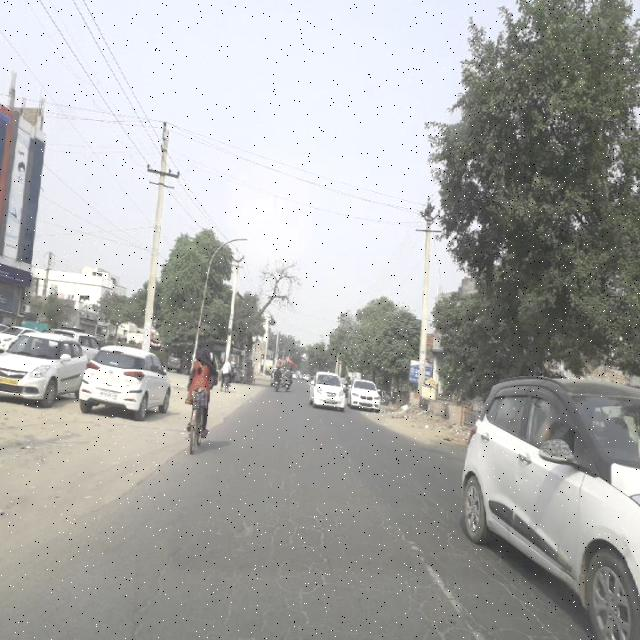D00: (126, 523, 182, 639)
D20: (219, 477, 335, 639), (380, 558, 534, 639)
D44: (393, 542, 489, 636)
